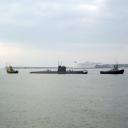submarine: (31, 62, 89, 75)
